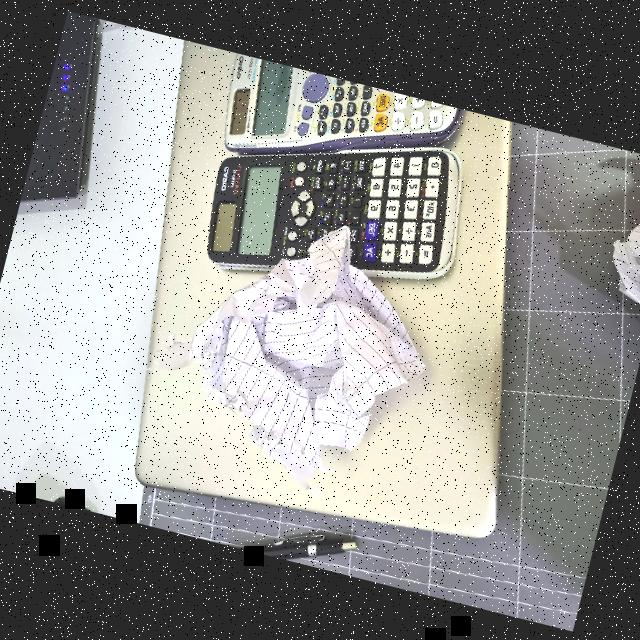scrap_paper: (157, 234, 451, 502)
